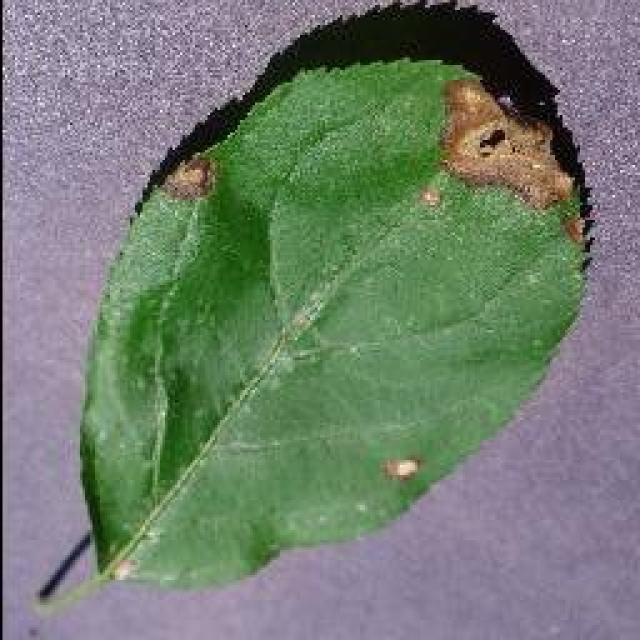Black_rot: (40, 0, 592, 608)
